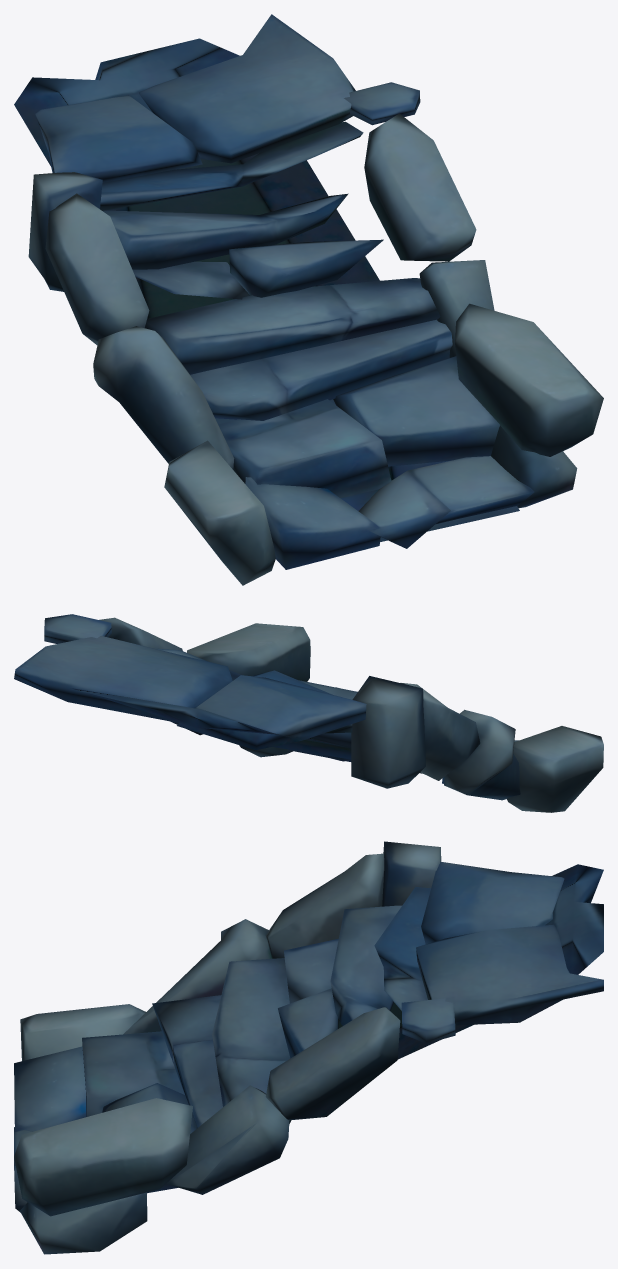
Rendered from Meshy_AI_model_20261128_texture.fbx.
3 renders of one model, top to bottom at view 1: azimuth 30°, elevation 25°; view 2: azimuth 150°, elevation 25°; view 3: azimuth 270°, elevation 25°, orthographic. The views are drawn at different scales.
Visible parts, largest first — view 1: geometry_0; view 2: geometry_0; view 3: geometry_0.
Part boxes in pixels (box(x1,y1,x2,y2)): geometry_0: box(14, 14, 603, 585); geometry_0: box(14, 614, 603, 812); geometry_0: box(14, 841, 603, 1254).
Bounding box in the file's own units: 80.48 × 52.72 × 100.
Materials: 1 (1 with a texture image).
